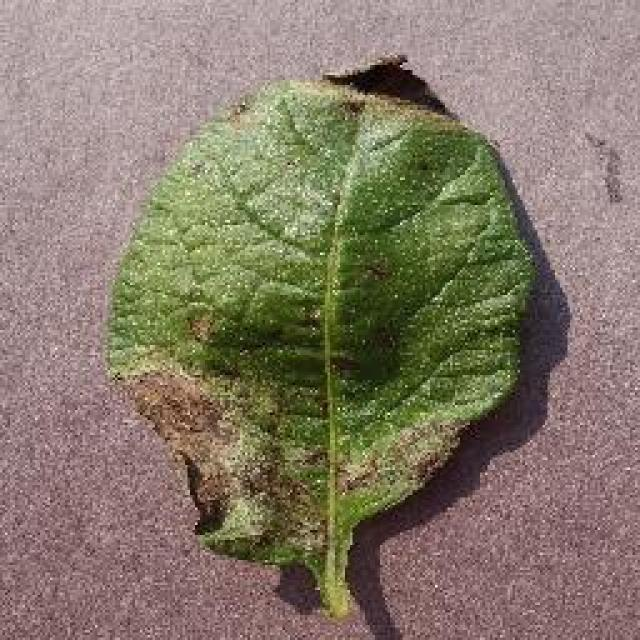late_blight: (100, 65, 540, 620)
